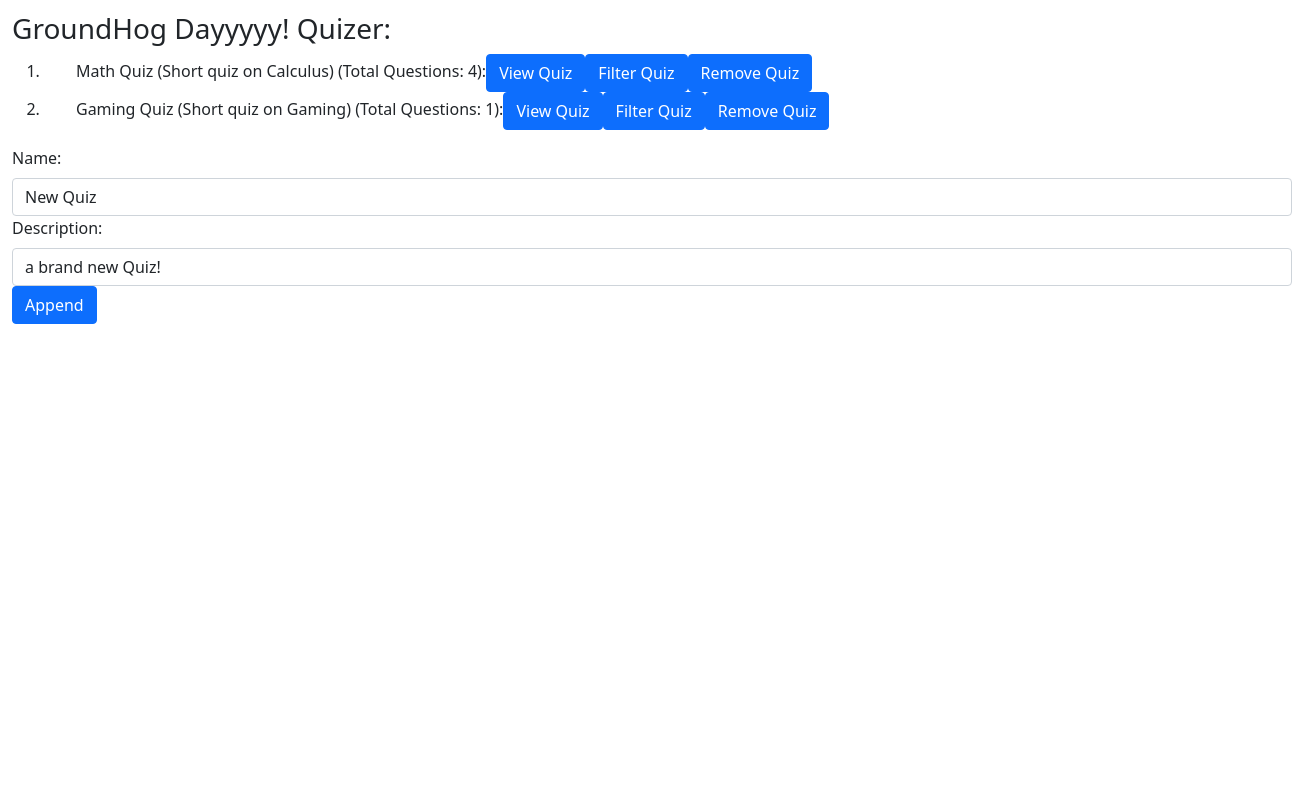
Scenario: Questions Tests › Editing publication of the question and whether or not it's multiple choice
This screenshot has width=1304, height=809.
Click the button with test id "view-quiz-button" in the row of "Short quiz on Calculus".
click(536, 73)  # box [486,54,585,92]
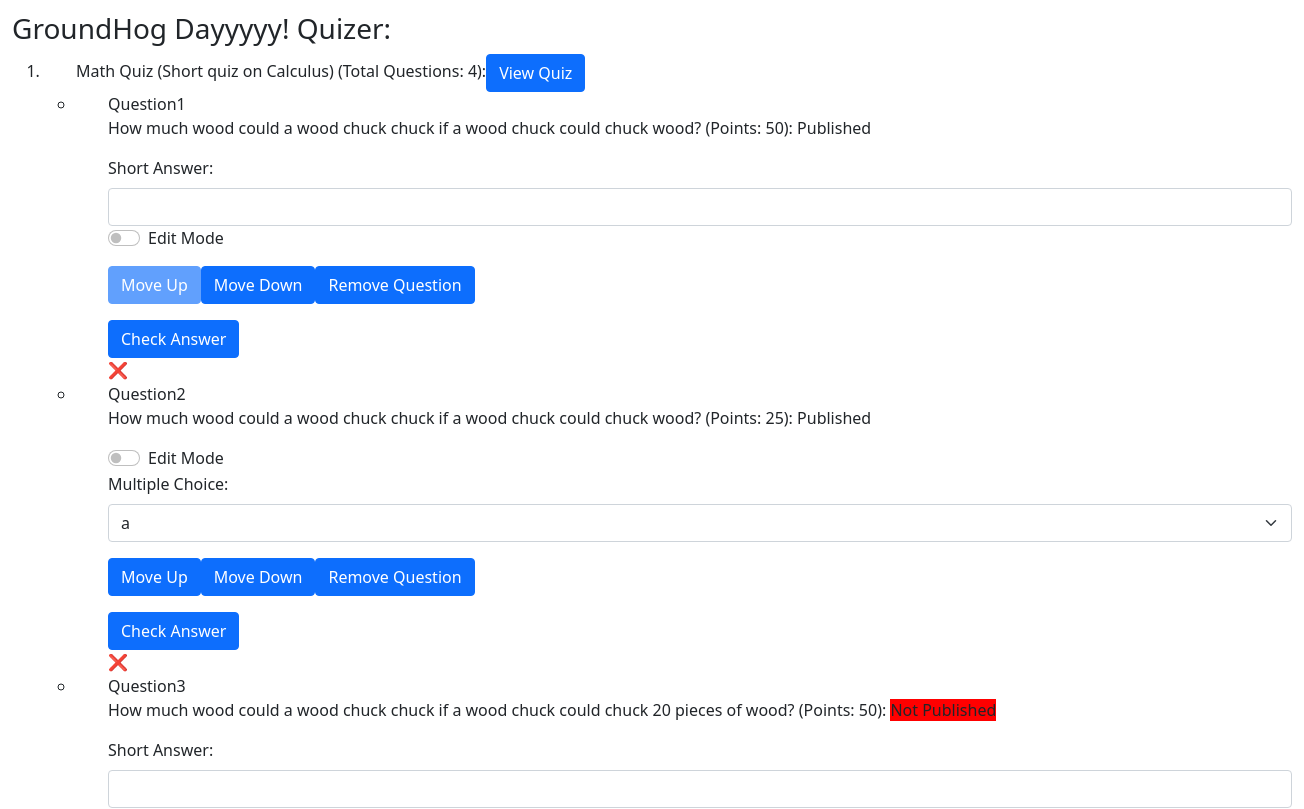
Click the checkbox labelled "Edit Mode".
click(124, 238)  # box [108,230,140,246]
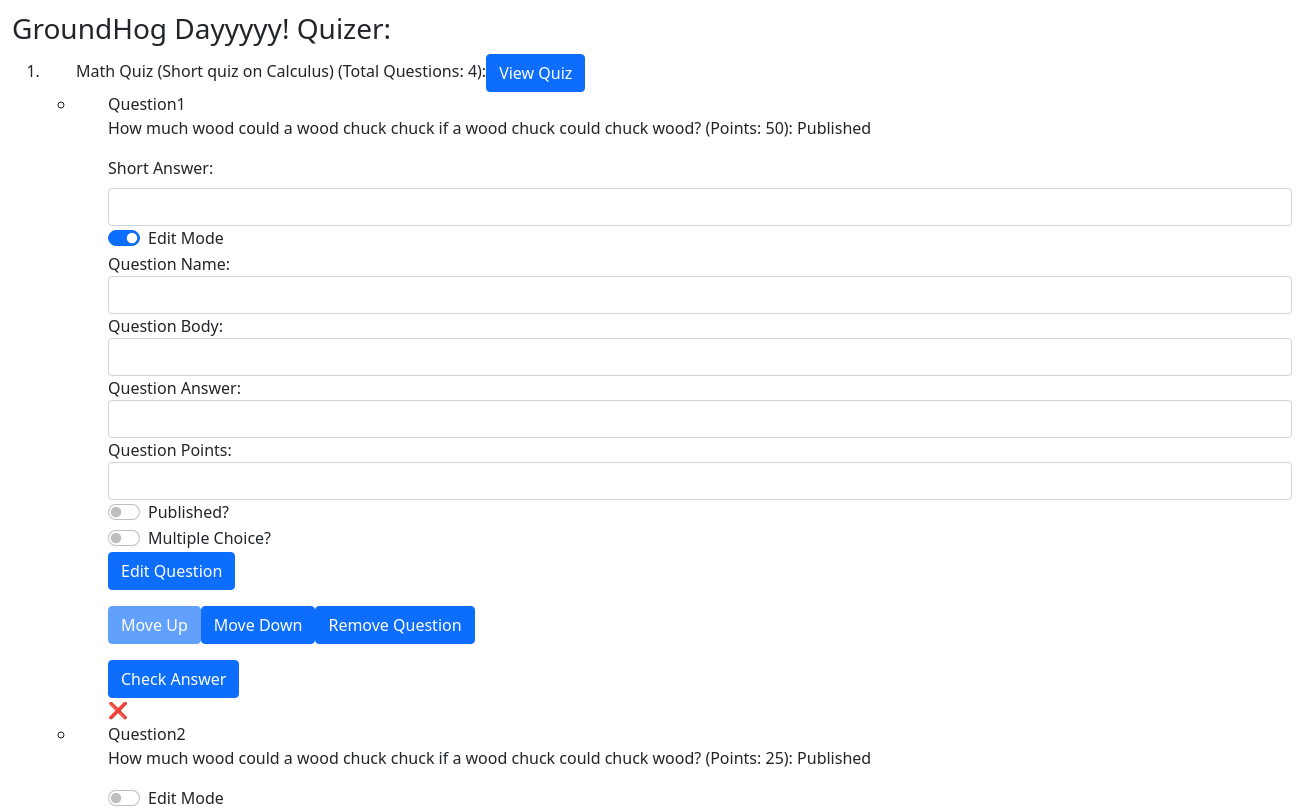
Type "100" into the number field with test id "edit-points-field".
click(700, 481); type("100")  # box [108,462,1292,500]
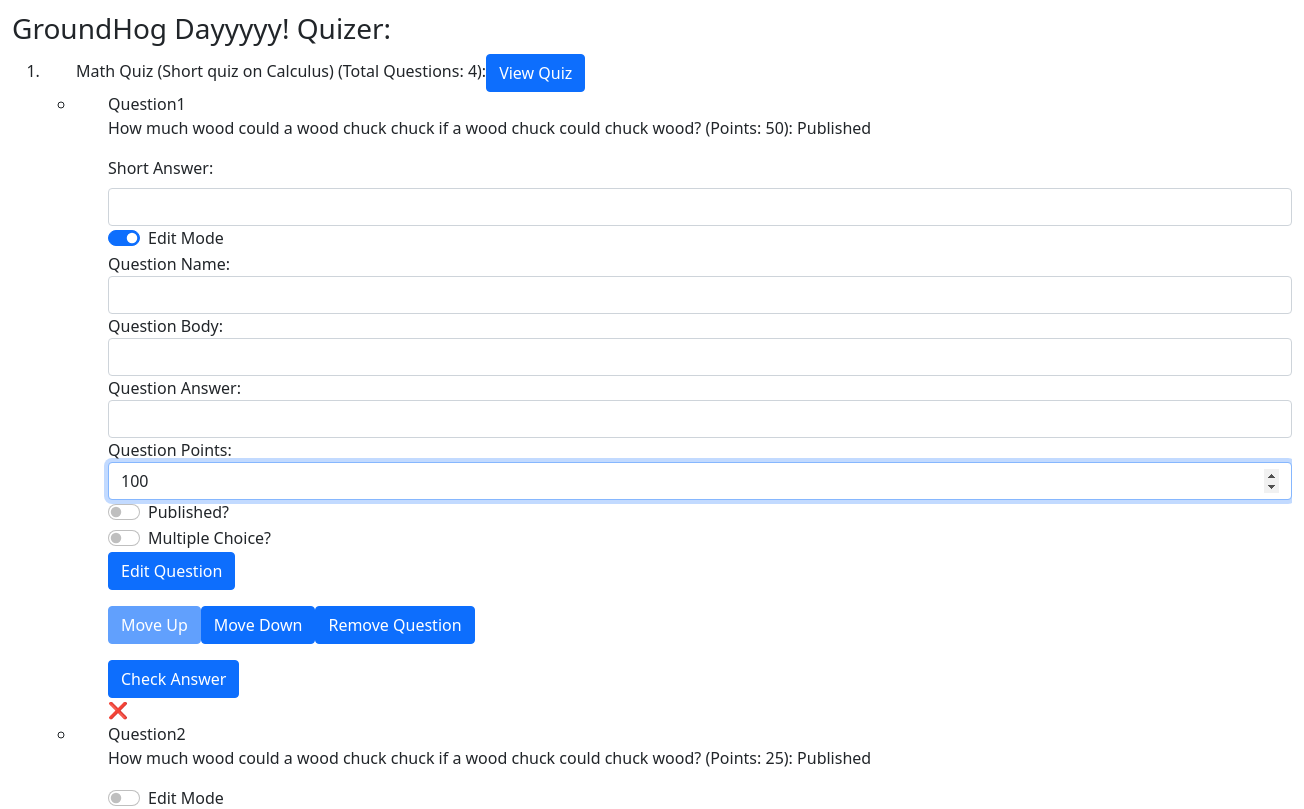
Click the checkbox with test id "edit-question-type".
click(124, 538)  # box [108,530,140,546]
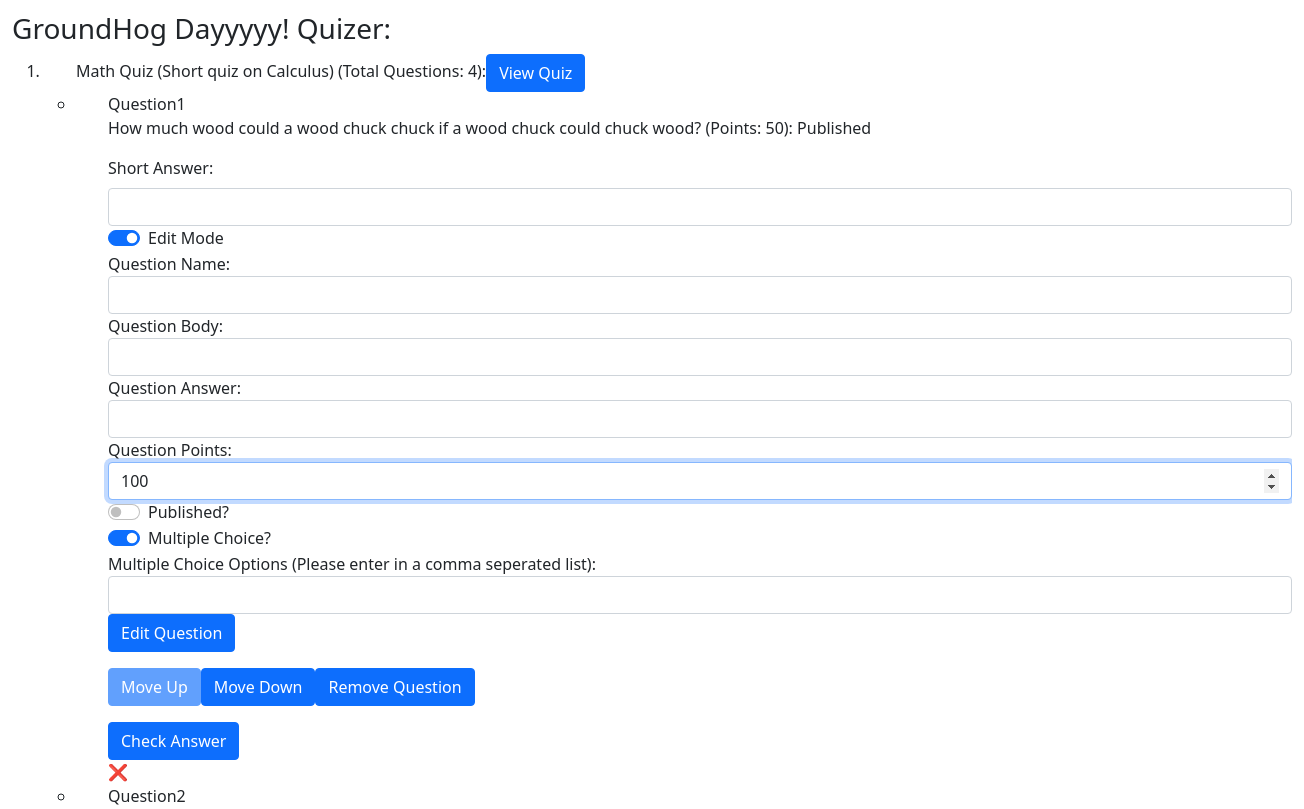
Click the button with test id "edit-question-button".
click(172, 633)  # box [108,614,235,652]
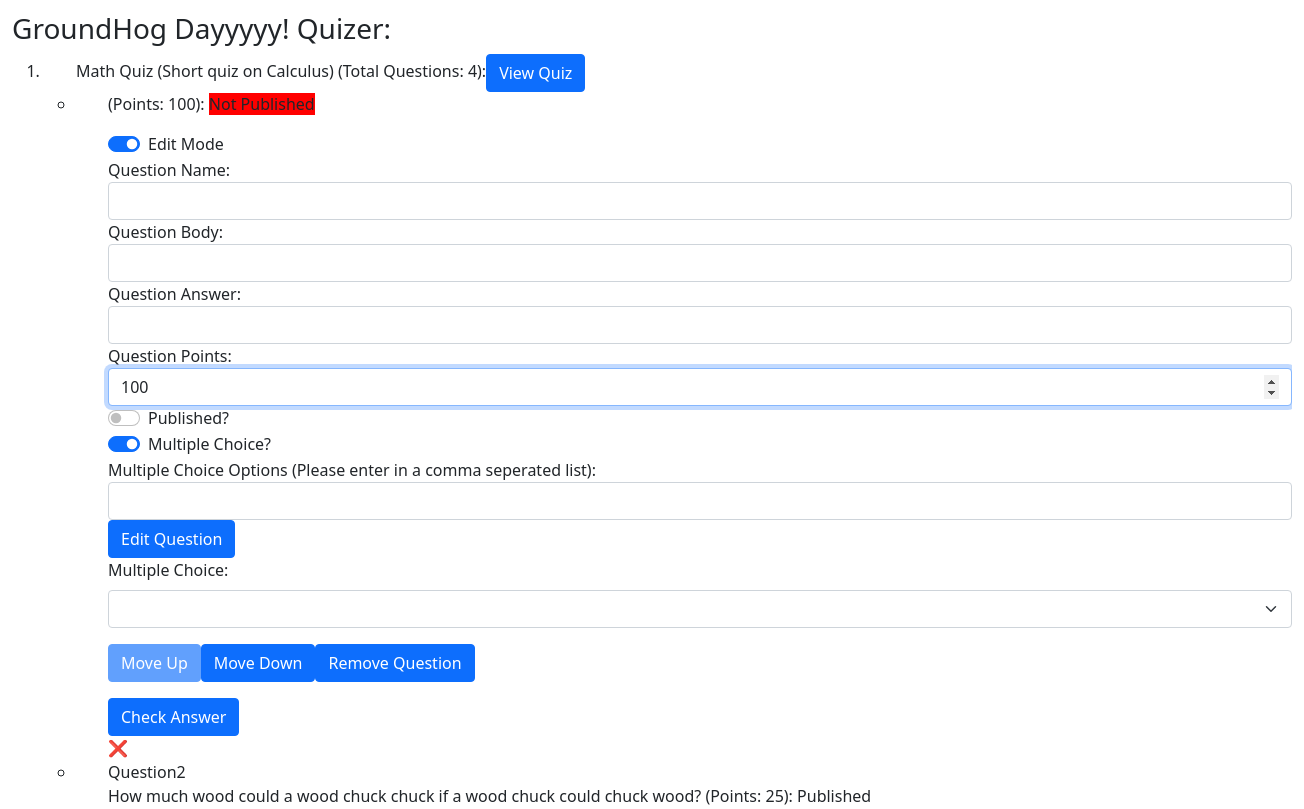
Expected: the field with test id "edit-options-field" is enabled, [108,482,1292,520]
Expected: the text "(Points: 100): Not Published" is shown, [108,93,315,115]
